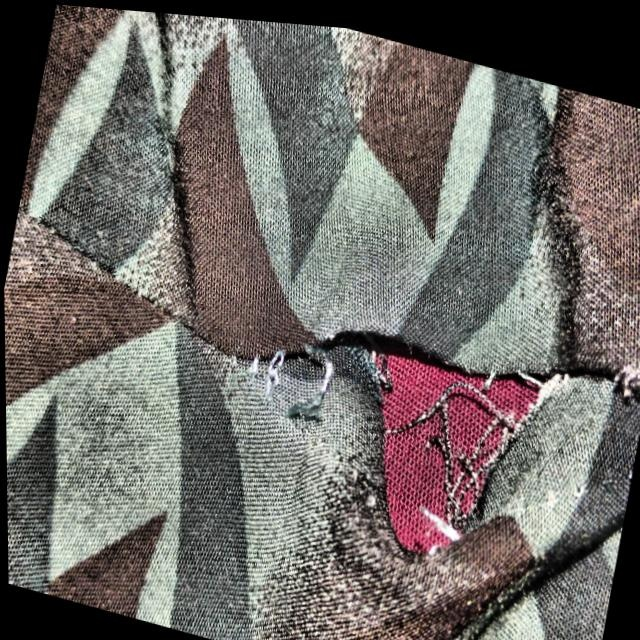seam: (169, 233, 626, 623)
